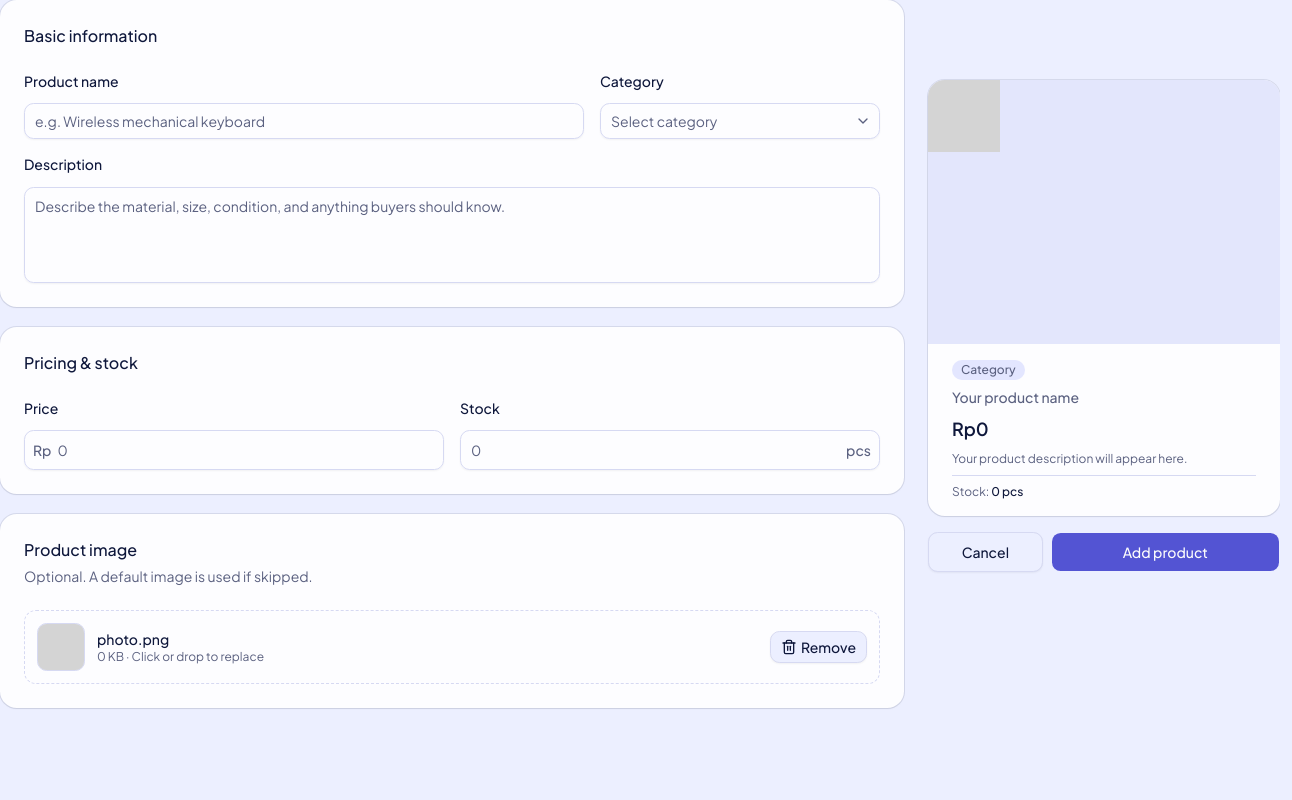
Test case: ProductForm: tambah produk › memilih dan menghapus gambar
Earlier steps of the test are not shown.
Check: the text "photo.png" is shown, box [97,630,169,648]
Click the button "Remove" at (818, 647), box [770,631,867,663]
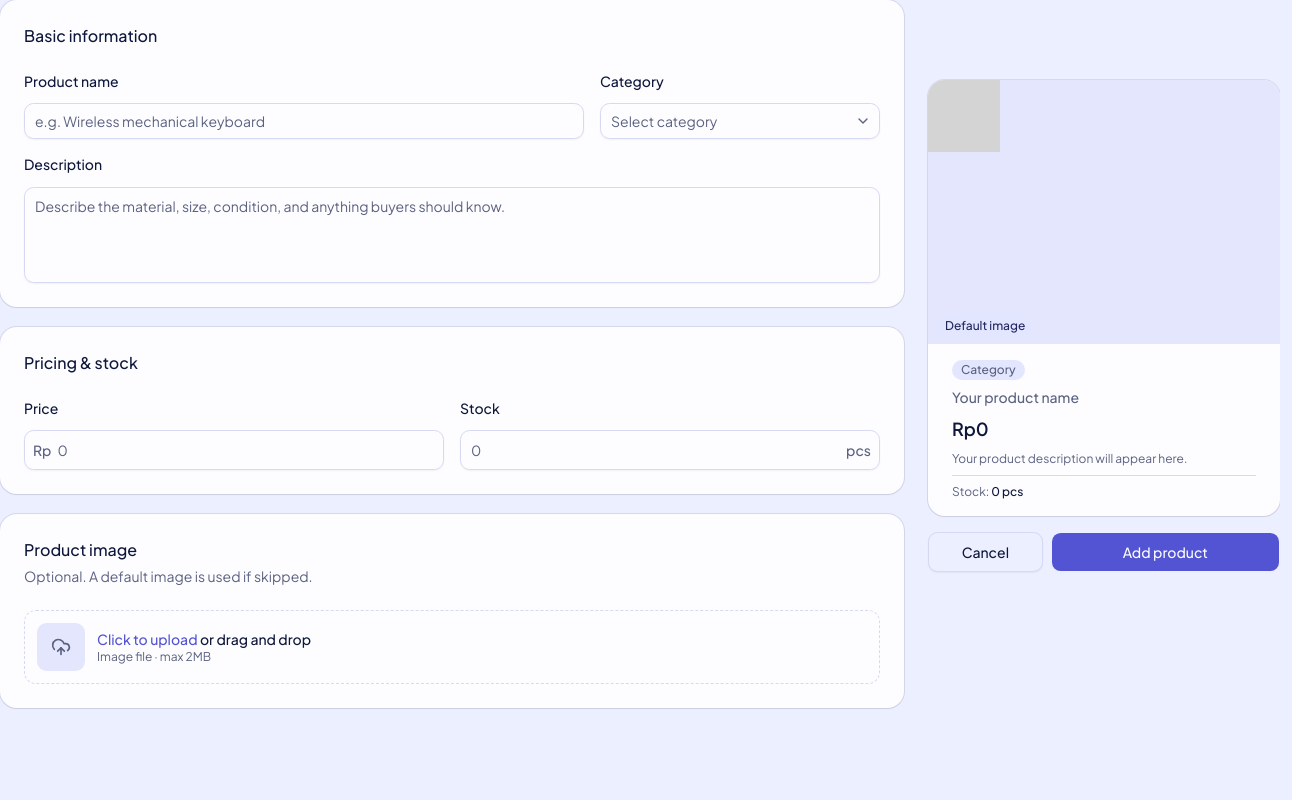
Check: the button "photo.png" is gone
